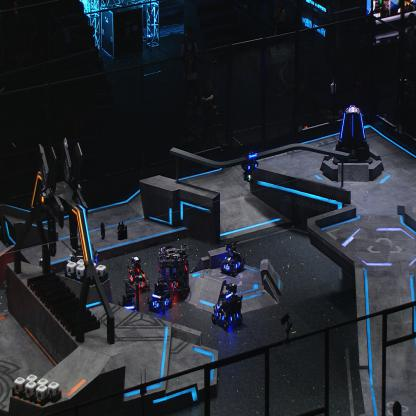car: (156, 245, 191, 299), (212, 279, 243, 331), (68, 242, 98, 290), (219, 239, 245, 277), (148, 276, 173, 314), (124, 256, 150, 292), (116, 286, 138, 324)
